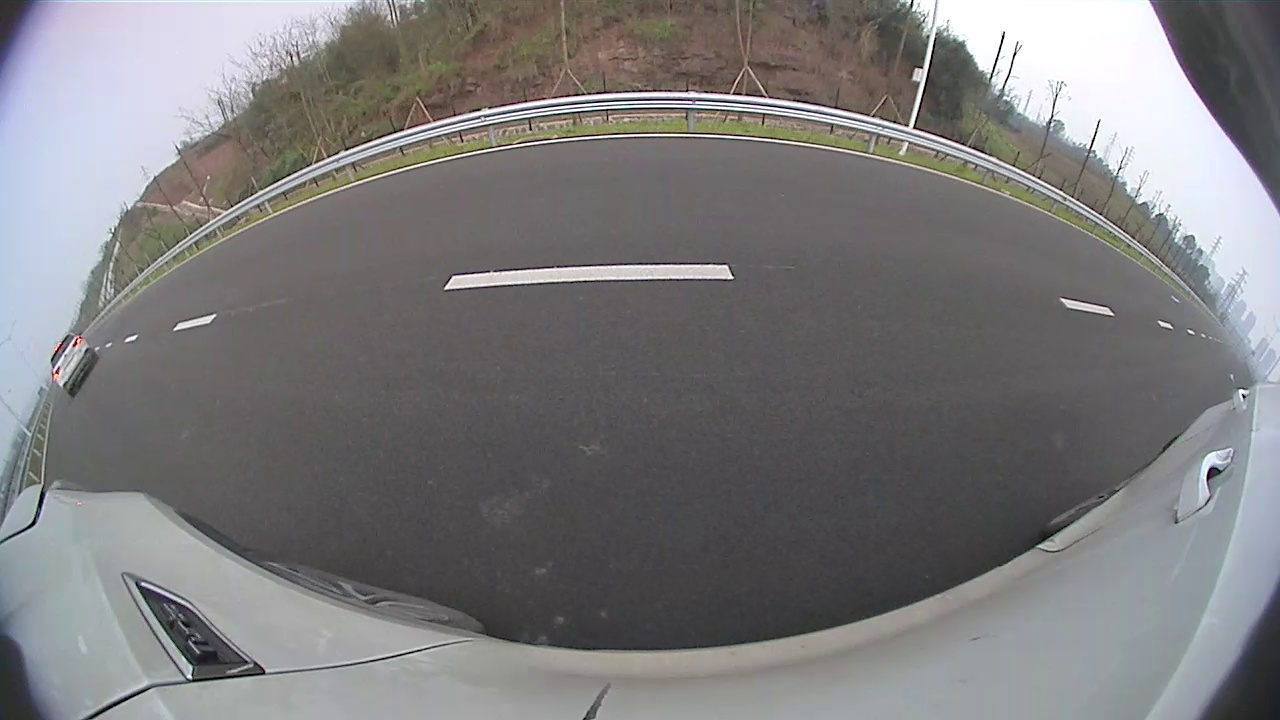car: (711, 151, 783, 197)
front: (714, 176, 721, 191)
rear: (727, 176, 734, 194)
